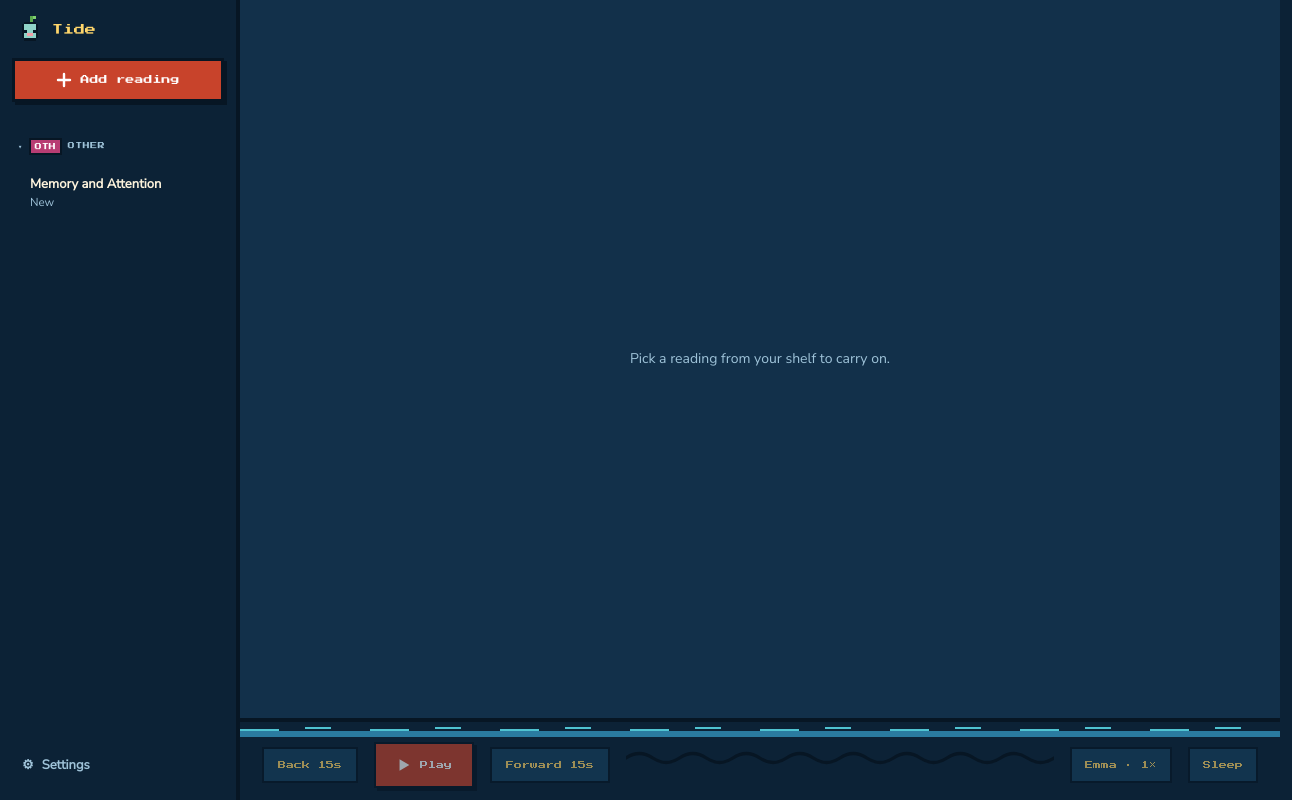
Test: Pixel Quest dialogue box › mirrors the current sentence, hidden from assistive tech
The width and height of the screenshot is (1292, 800).
Click the button "Memory and Attention New": (118, 193) [12, 168, 224, 218]
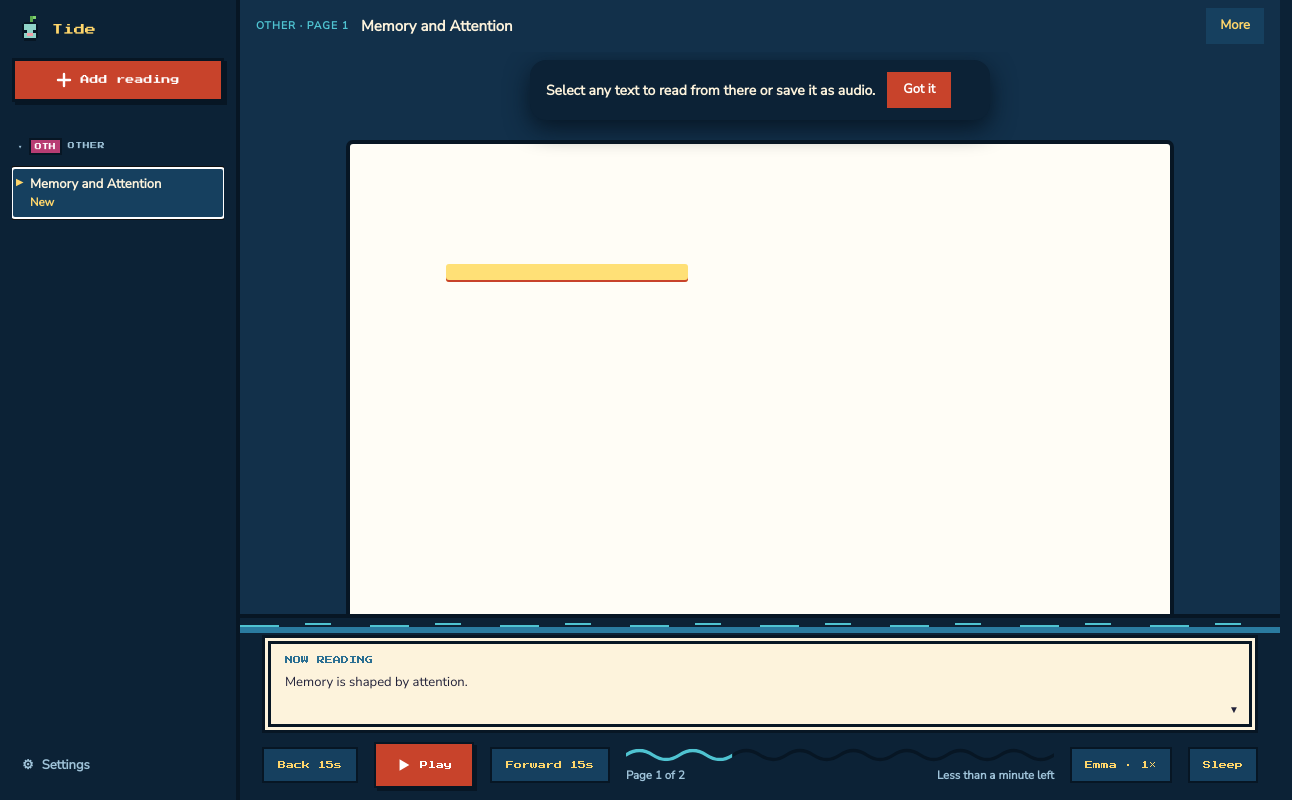
Now the element with test id "sentence-highlight" is shown, box [446, 264, 688, 282]
Now the element with test id "dialogue-box" shows "Memory is shaped by attention.", box [285, 673, 468, 691]
